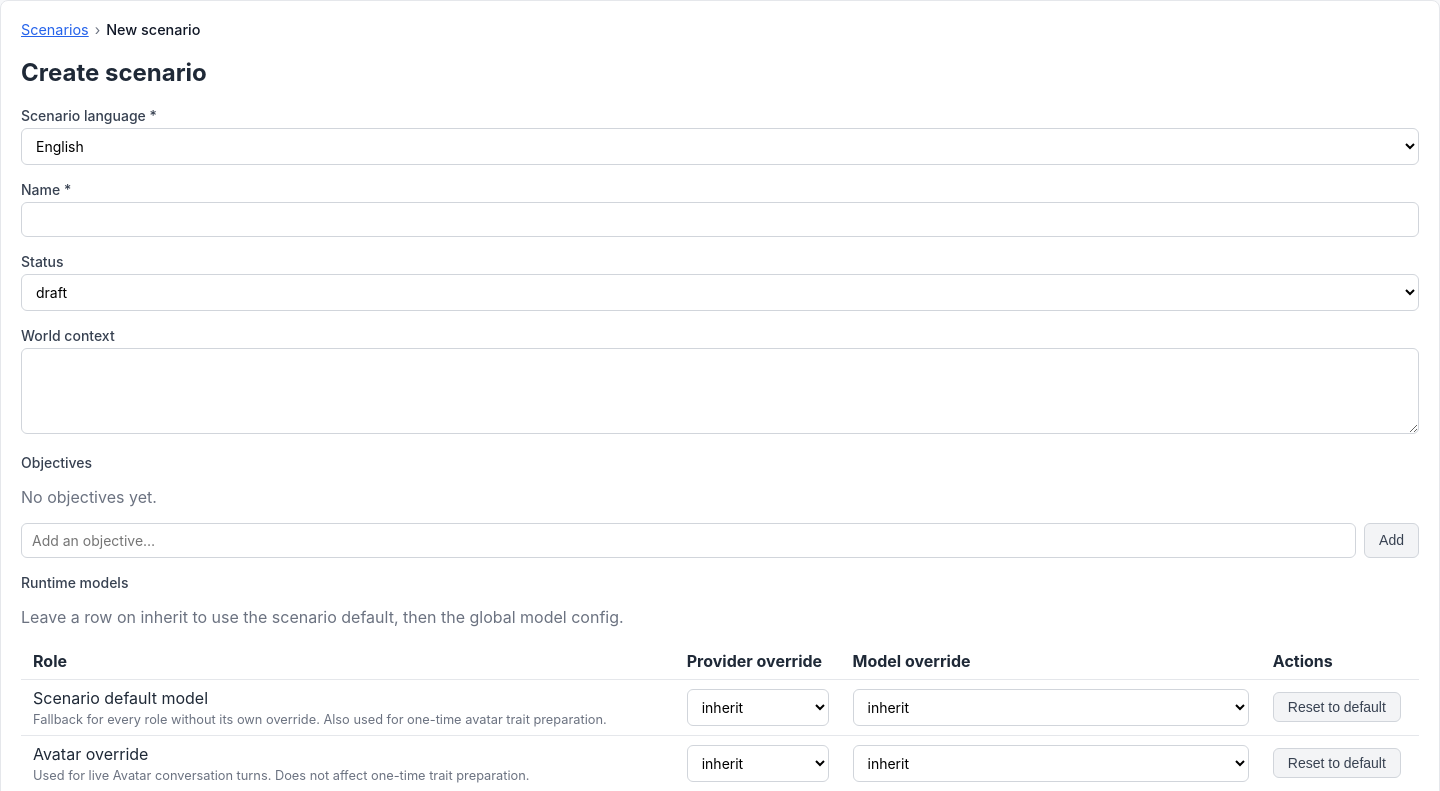
it: ScenarioCreatePage › adds and removes objectives
Type "Learn AI basics" into the field with placeholder "Add an objective…" at {"x": 689, "y": 540}, box top-left (21, 523), bottom-right (1356, 558)
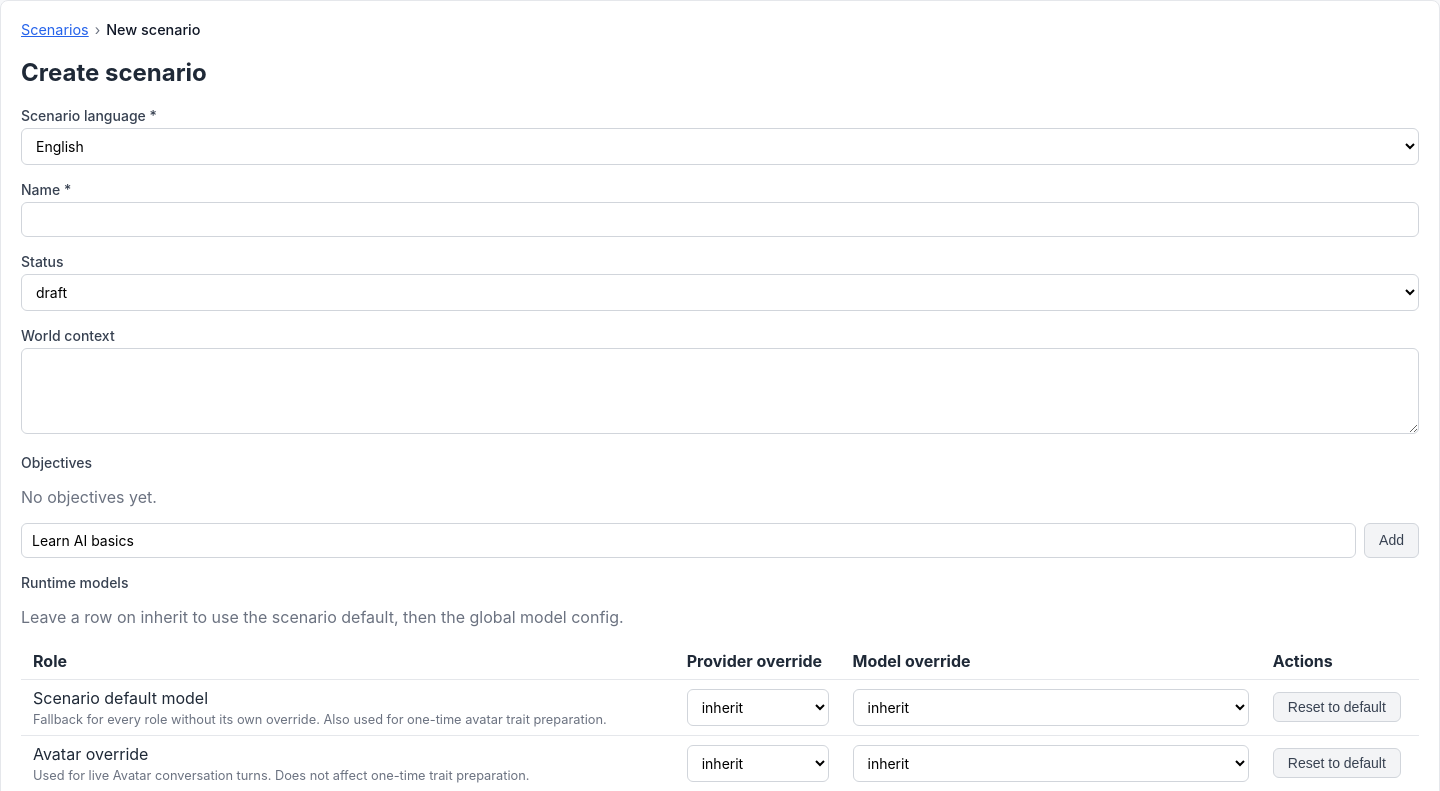
Click the button "Add" at {"x": 1392, "y": 540}, box top-left (1364, 523), bottom-right (1419, 558)
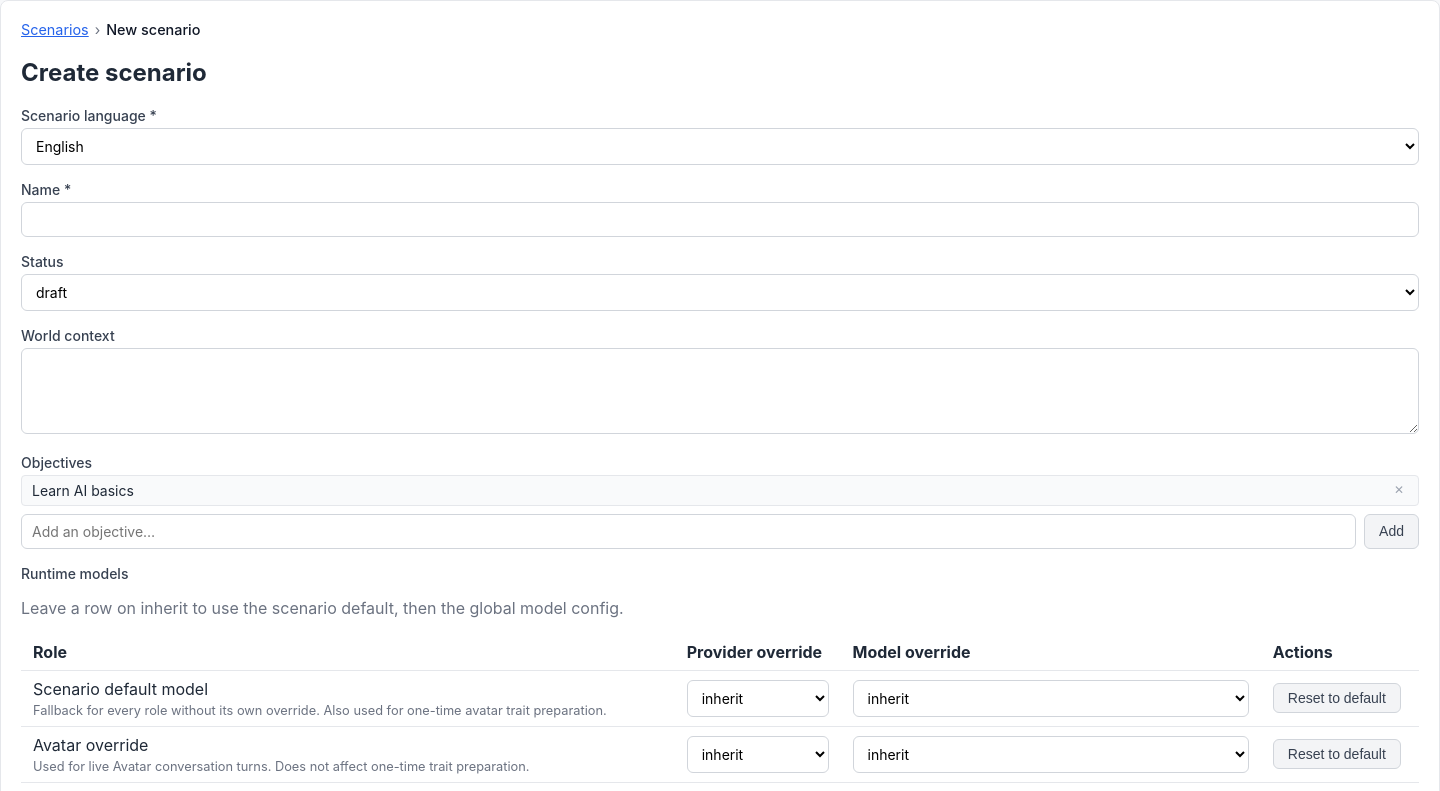
expect the text "Learn AI basics" is shown: met, box top-left (32, 482), bottom-right (134, 499)
Click the button "✕" at {"x": 1399, "y": 490}, box top-left (1390, 484), bottom-right (1408, 496)
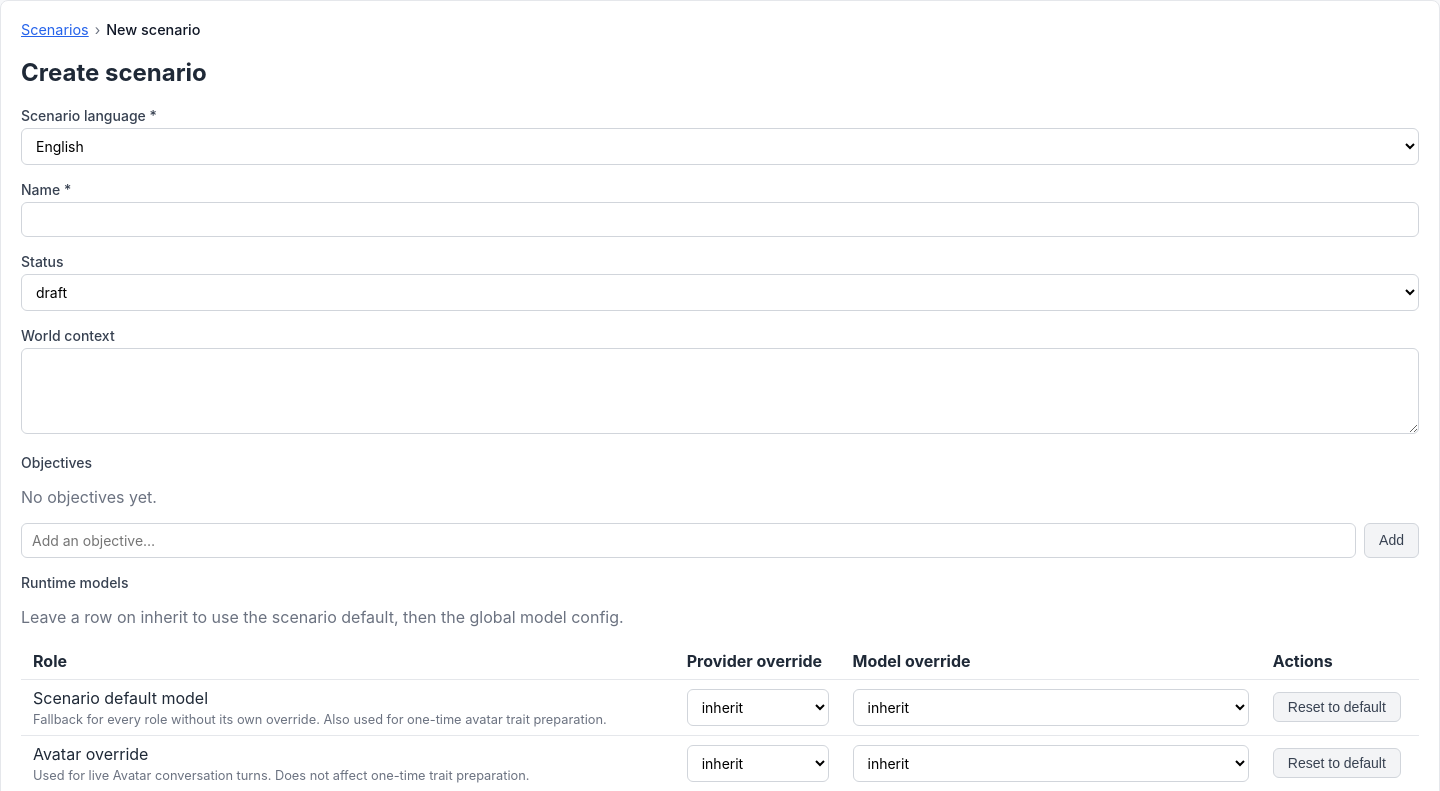
expect the text "Learn AI basics" is gone: met
